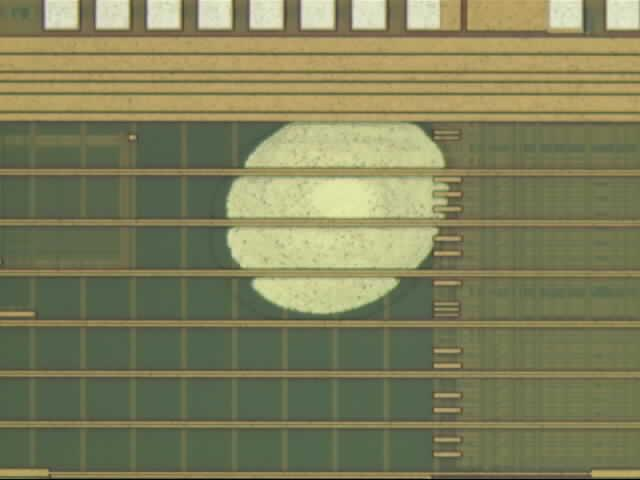BLOCK ETCH: (206, 101, 460, 329)
